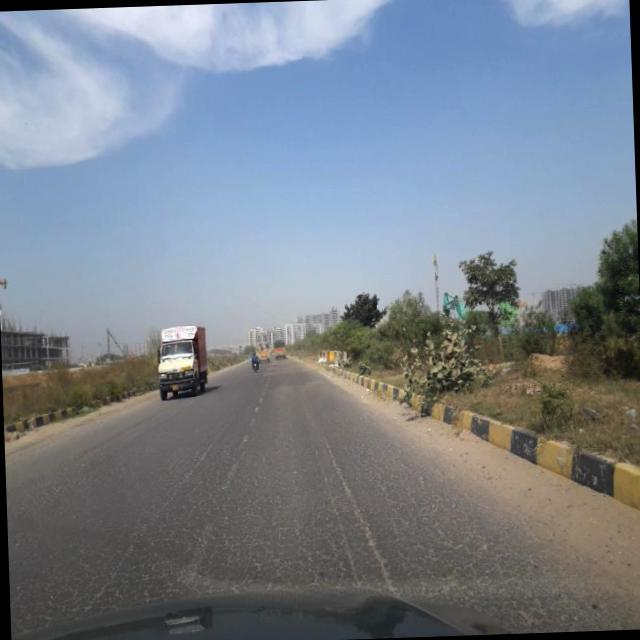crack: (6, 438, 507, 632), (76, 440, 222, 612), (325, 430, 393, 588)
